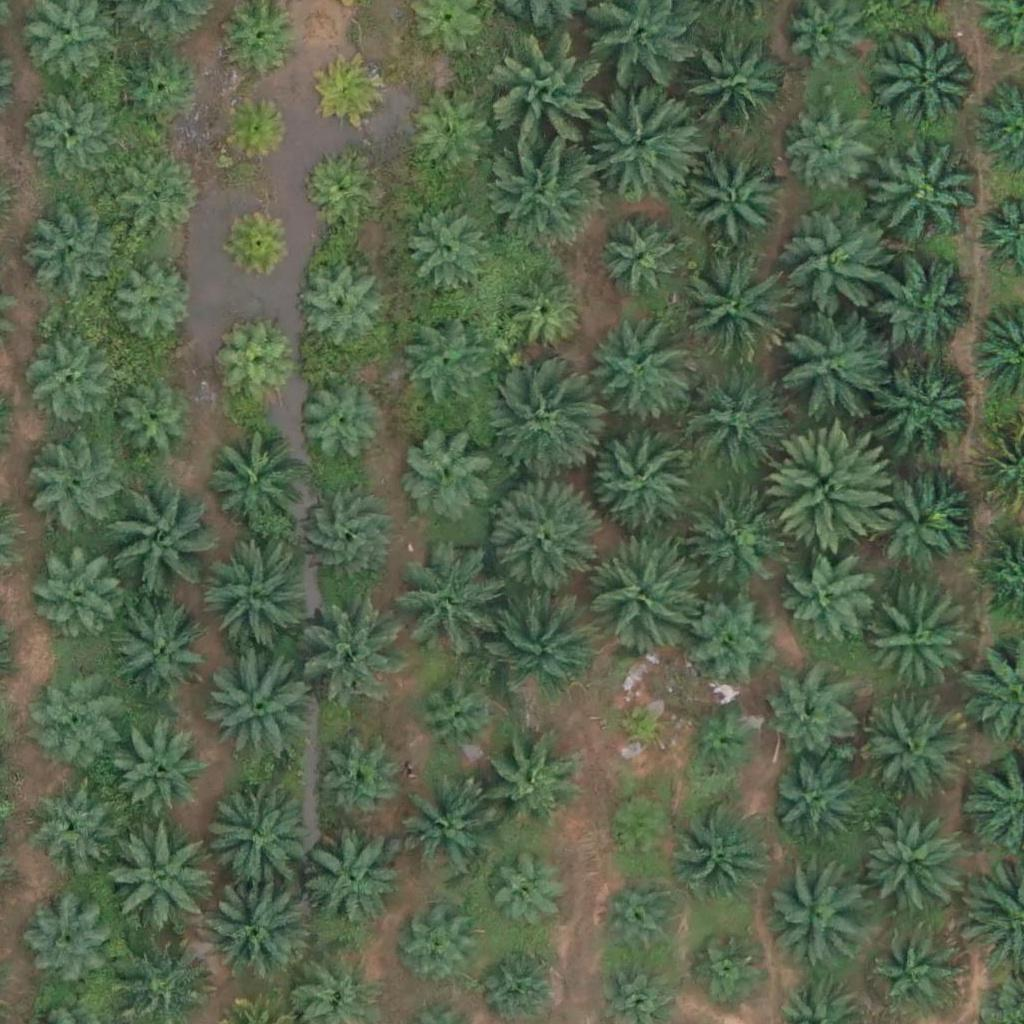Kelapa_Sawit: (771, 426, 896, 552), (773, 304, 886, 418), (197, 647, 310, 761), (674, 33, 787, 147), (675, 252, 788, 365), (679, 364, 792, 477), (586, 419, 699, 532), (483, 480, 596, 593), (202, 874, 315, 987), (194, 778, 307, 891), (867, 135, 980, 248), (490, 137, 603, 250), (780, 210, 893, 323), (483, 582, 595, 696), (200, 543, 312, 657), (102, 820, 214, 934), (873, 20, 985, 134), (496, 41, 608, 155), (579, 320, 691, 433), (584, 537, 696, 650), (481, 371, 593, 484), (294, 588, 406, 701), (98, 482, 210, 595), (586, 84, 698, 197), (880, 356, 980, 457), (866, 593, 966, 694), (861, 705, 961, 806), (857, 813, 957, 914), (683, 485, 783, 586), (685, 586, 785, 687), (477, 734, 577, 835), (391, 783, 491, 884), (391, 555, 491, 656), (301, 831, 401, 932), (204, 431, 304, 532), (107, 599, 207, 700), (28, 436, 128, 537), (686, 149, 786, 250), (24, 200, 124, 301), (676, 800, 776, 901), (875, 263, 975, 363), (865, 463, 965, 563), (768, 865, 868, 965), (398, 421, 498, 521), (296, 489, 396, 589), (765, 673, 853, 761), (498, 270, 586, 358), (412, 672, 500, 760), (293, 263, 381, 351), (119, 732, 207, 820), (21, 900, 109, 988), (19, 335, 107, 423), (115, 43, 203, 131), (115, 161, 203, 249), (598, 215, 686, 303), (406, 94, 494, 182), (26, 91, 114, 179), (768, 760, 855, 849), (398, 320, 485, 409), (875, 931, 962, 1019), (783, 553, 870, 641), (600, 875, 687, 963), (295, 379, 382, 467), (317, 741, 404, 829), (111, 259, 198, 347), (108, 383, 195, 471), (22, 778, 109, 866), (31, 666, 118, 754), (34, 551, 121, 639), (784, 4, 871, 92), (789, 109, 876, 197), (405, 203, 492, 291), (300, 149, 375, 225), (483, 858, 558, 934), (485, 946, 560, 1022), (684, 706, 759, 782), (603, 793, 678, 869), (217, 329, 292, 405), (222, 202, 297, 278), (315, 53, 390, 129), (691, 928, 766, 1003), (403, 913, 478, 988), (217, 92, 292, 167), (610, 694, 672, 757)
